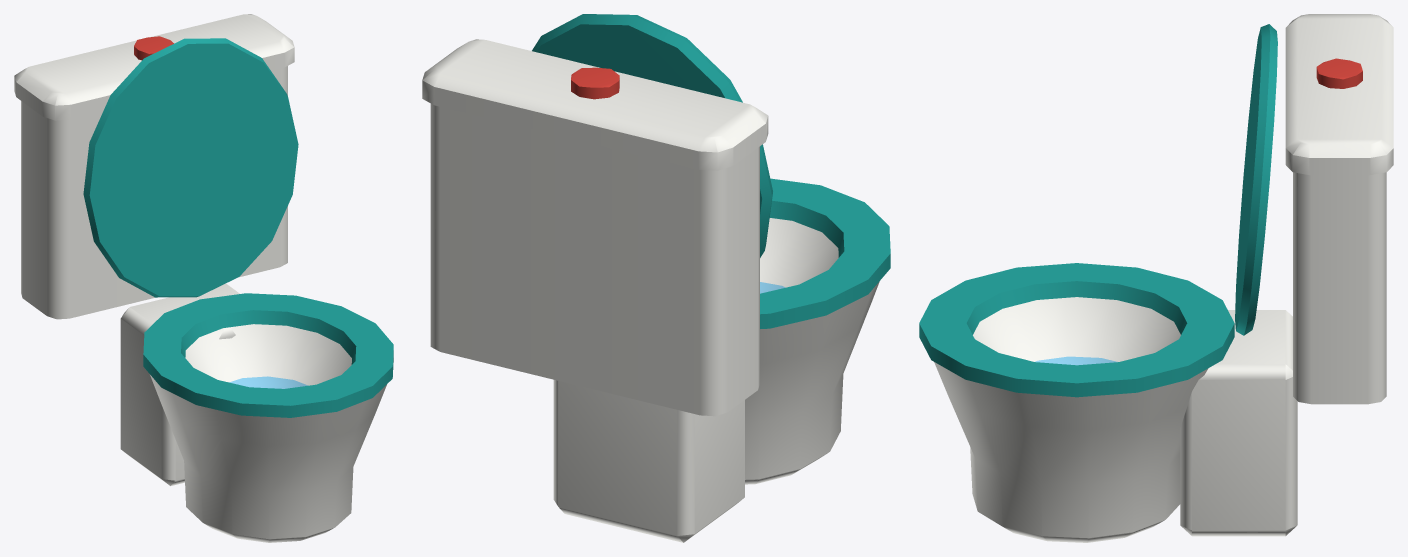
File: Inodoro.fbx
3 views of the same model, side by side, from view 1: azimuth 30°, elevation 25°; view 2: azimuth 150°, elevation 25°; view 3: azimuth 270°, elevation 25° (orthographic). The views are drawn at different scales.
Visible parts, largest first — view 1: Inodoro; view 2: Inodoro; view 3: Inodoro.
Boxes of the visible parts, x1,y1,x2,y2 form: Inodoro: (14, 14, 393, 542); Inodoro: (422, 14, 890, 542); Inodoro: (919, 14, 1393, 542).
Size of the model in its own units: 1.4 by 2.2 by 2.
Materials: 1 (1 with a texture image).
